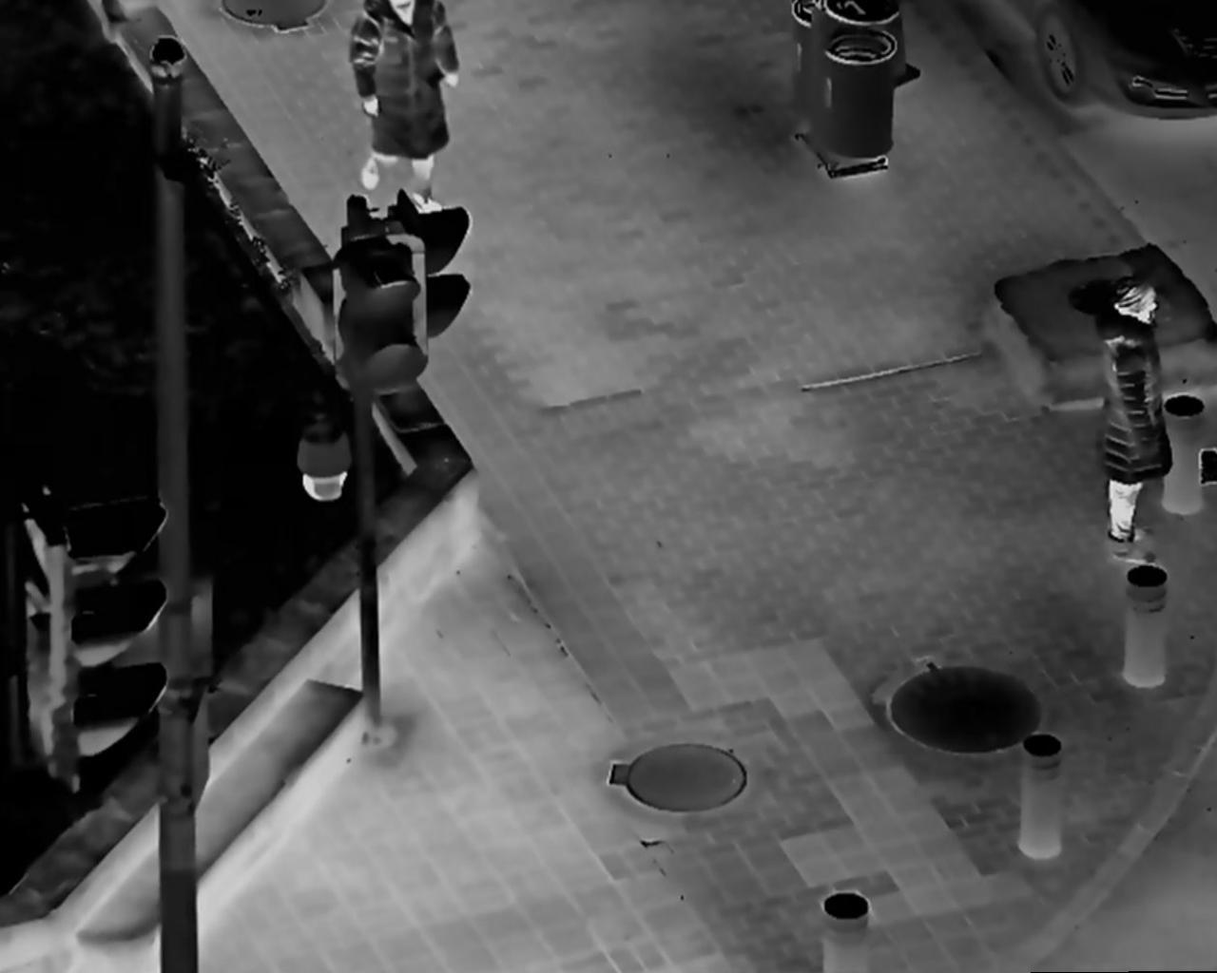person: (344, 5, 465, 215), (1090, 272, 1171, 554)
